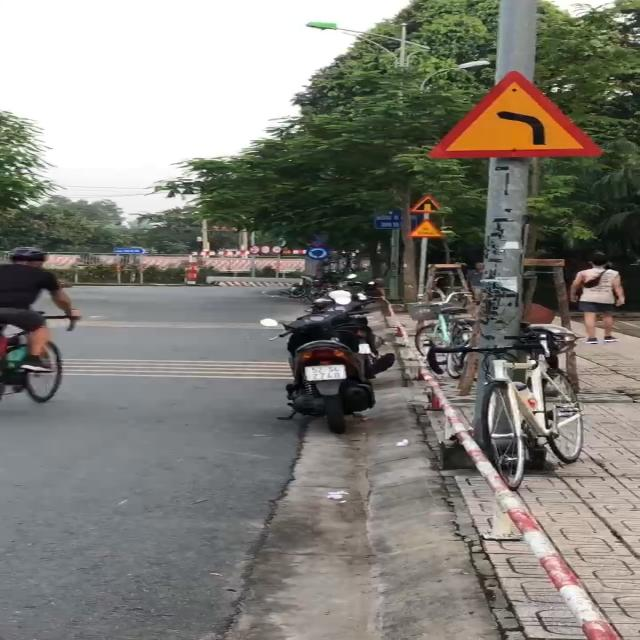Bien bao cho ngoat nguy hiem: (413, 60, 613, 160)
Bien bao noi giao nhau chay theo vong xuyen: (305, 246, 332, 260)
